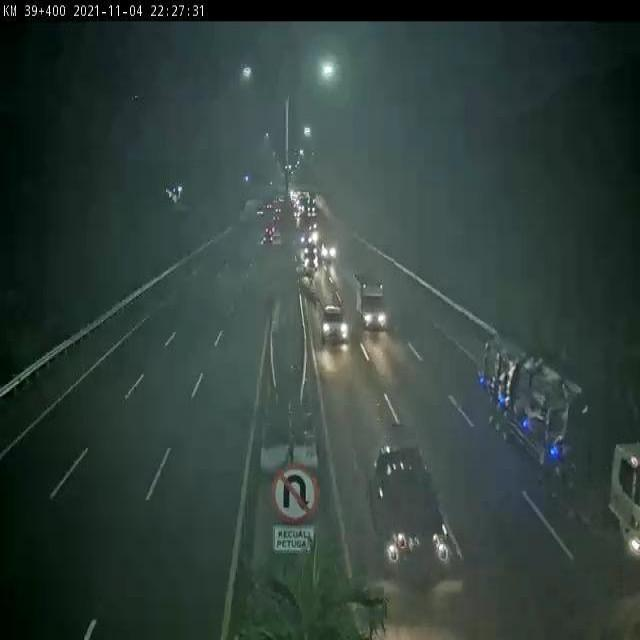car: (367, 444, 451, 576), (319, 305, 349, 344)
truck-s-: (352, 273, 387, 332)
truck-xl-: (481, 333, 640, 551)
